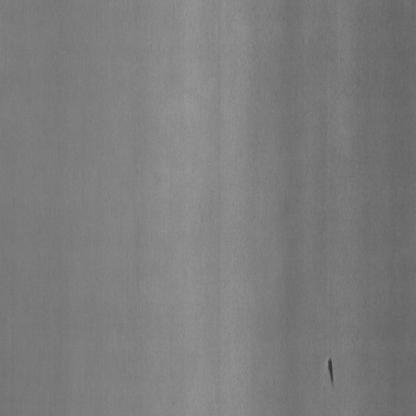inclusion: (322, 348, 340, 396)
